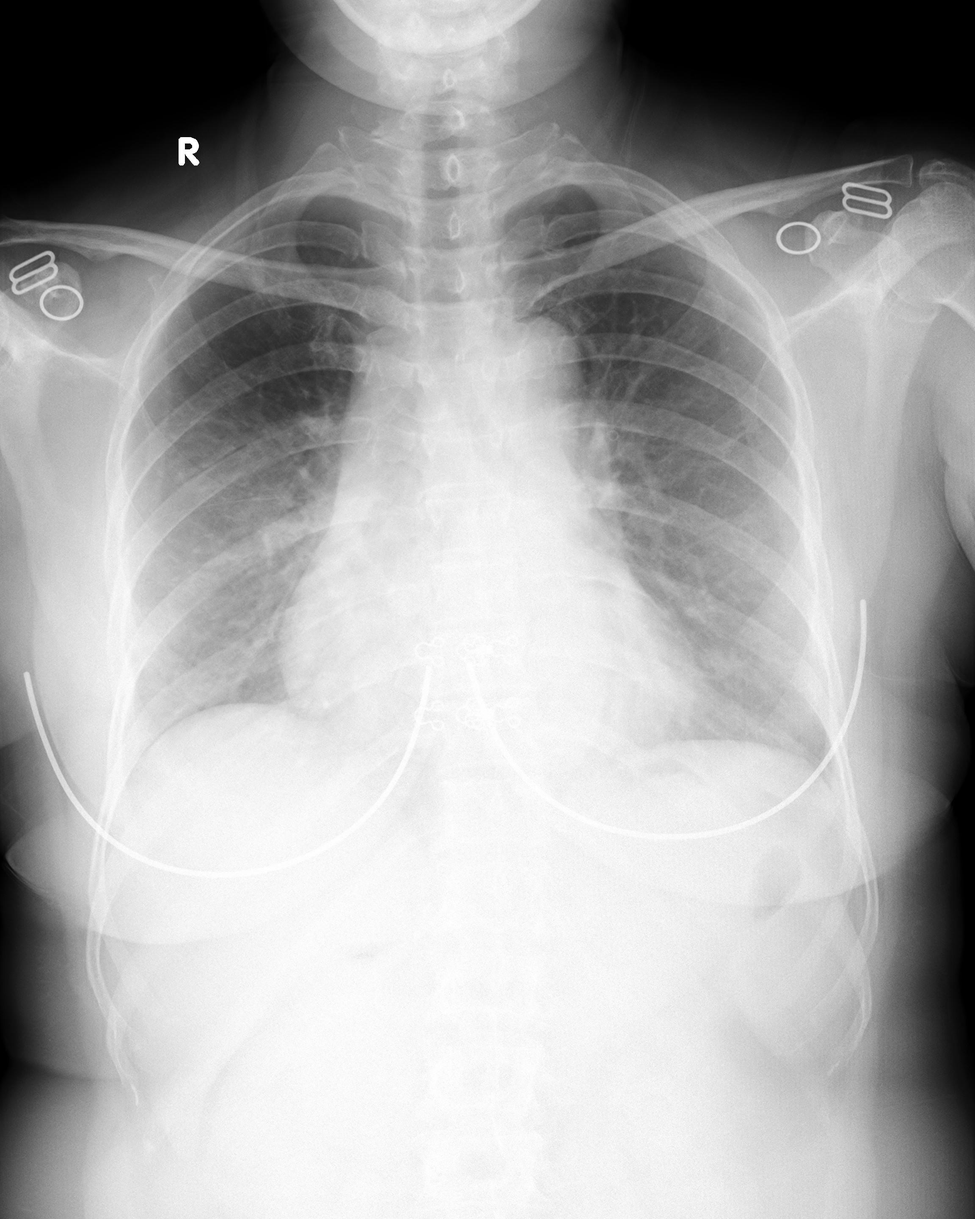Cardiomegaly: (277, 560, 707, 742)
